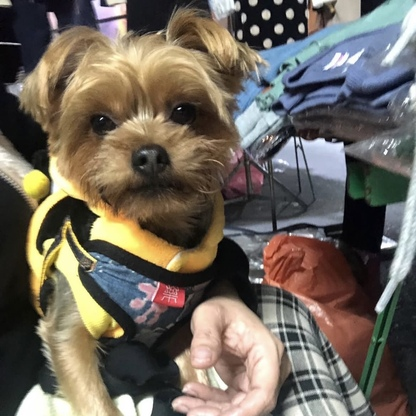yorkshire: (16, 7, 257, 224)
